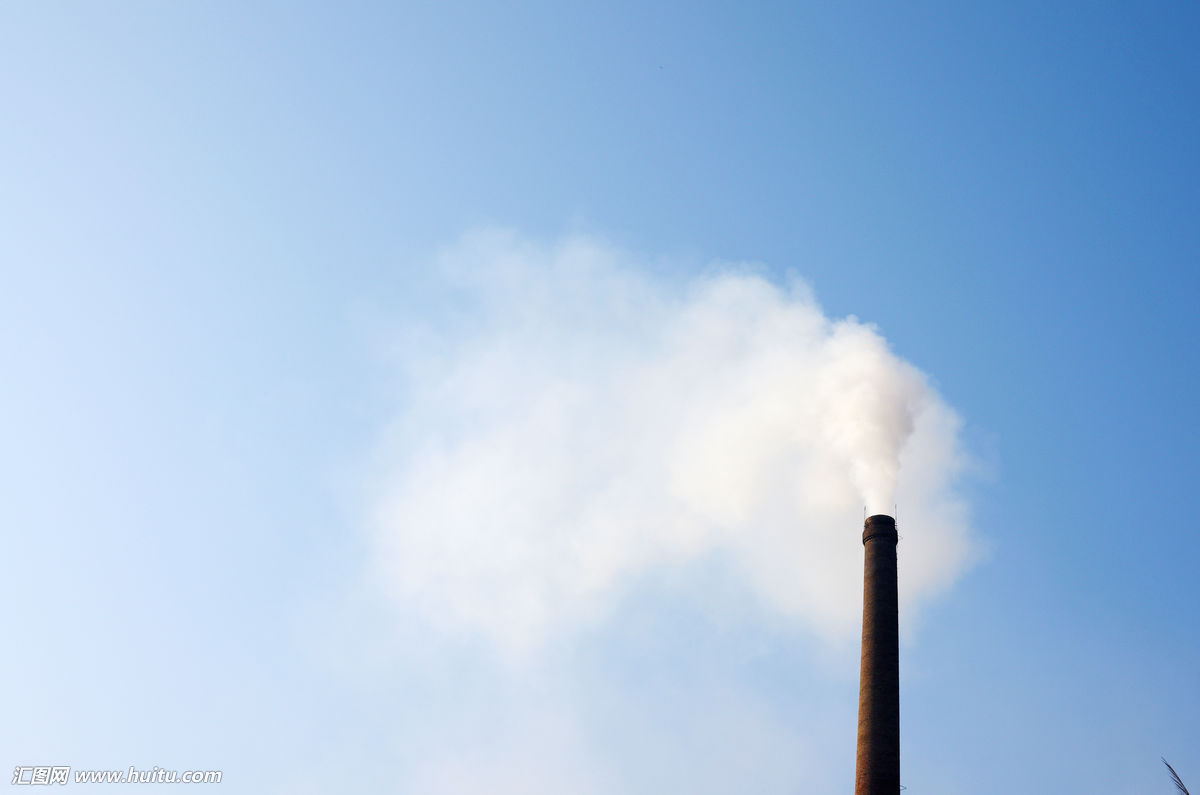dust: (649, 285, 957, 539)
